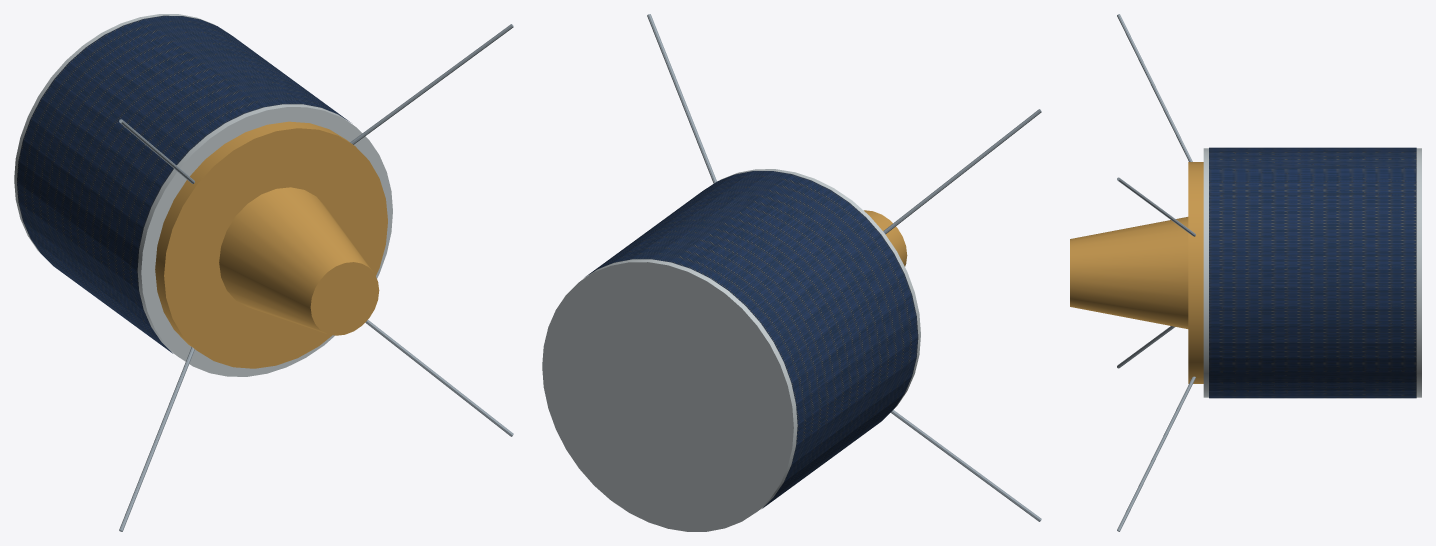
The model's file is ref-hs-306-2608.glb.
The picture shows the model from 3 angles, left to right: view 1: azimuth 30°, elevation 25°; view 2: azimuth 150°, elevation 25°; view 3: azimuth 270°, elevation 25°; orthographic projection. The views are drawn at different scales.
Parts seen in each view (by area): view 1: Body-mounted solar cells, Despun equipment deck, Axial antenna horn, Solar drum core, Whip antenna (×3); view 2: Solar drum core, Body-mounted solar cells, Whip antenna (×3), Axial antenna horn; view 3: Body-mounted solar cells, Axial antenna horn, Despun equipment deck, Solar drum core, Whip antenna (×2).
Part boxes in pixels (x1,y1,x2,y2): Body-mounted solar cells: (17,15,350,353); Despun equipment deck: (155,121,387,368); Axial antenna horn: (219,187,379,335); Solar drum core: (14,14,392,376); Whip antenna (×3): (119,24,513,531); Solar drum core: (542,169,920,531); Body-mounted solar cells: (584,171,918,508); Whip antenna (×3): (647,14,1041,521); Axial antenna horn: (864,210,907,266); Body-mounted solar cells: (1209,147,1416,398); Axial antenna horn: (1070,217,1188,328); Despun equipment deck: (1188,162,1203,383); Solar drum core: (1203,148,1421,397); Whip antenna (×2): (1117,14,1195,531).
Size of the model in its own units: 2.35 by 2.35 by 2.11.
4 materials, 1 textured.
